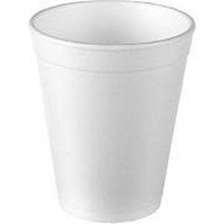paper_cup: (21, 0, 200, 224)
